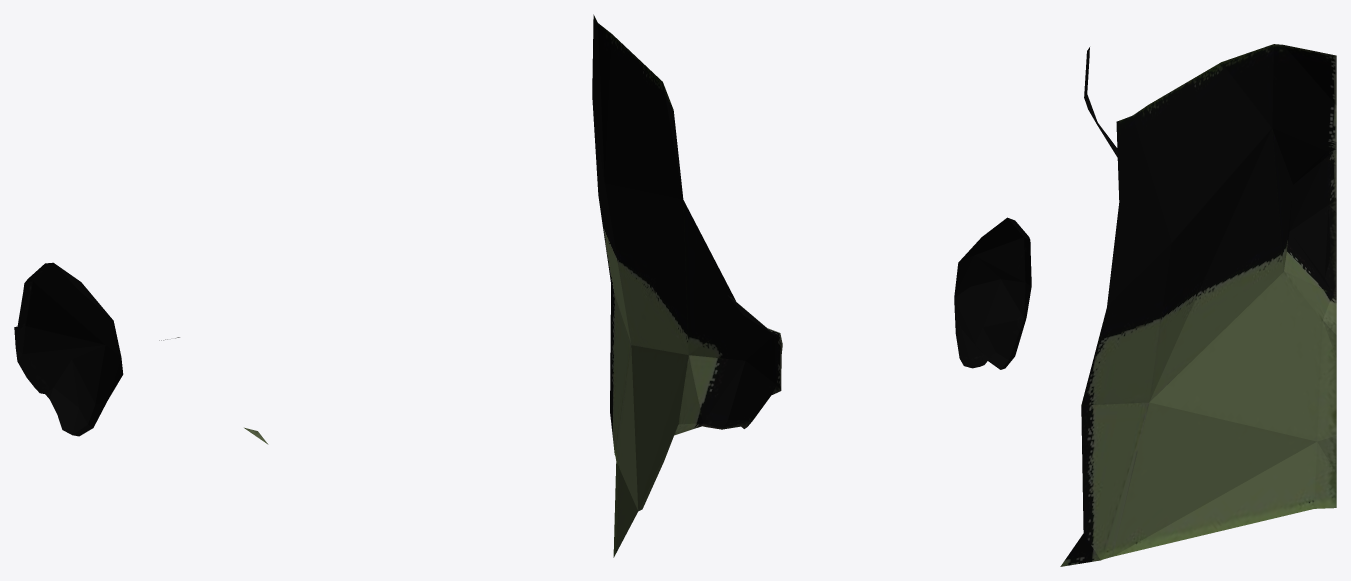
The picture shows the model from 3 angles, left to right: view 1: azimuth 30°, elevation 25°; view 2: azimuth 150°, elevation 25°; view 3: azimuth 270°, elevation 25°; orthographic projection. The views are drawn at different scales.
Bounding box in the file's own units: 5.9 × 5.9 × 3.32.
Materials: 2 (2 with a texture image).
